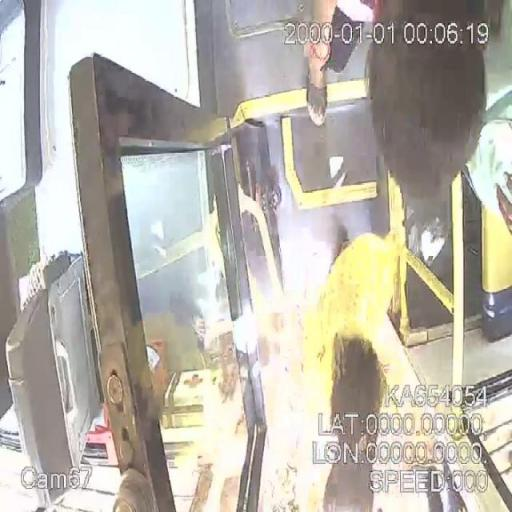persona: (304, 229, 466, 510), (298, 0, 495, 210)
